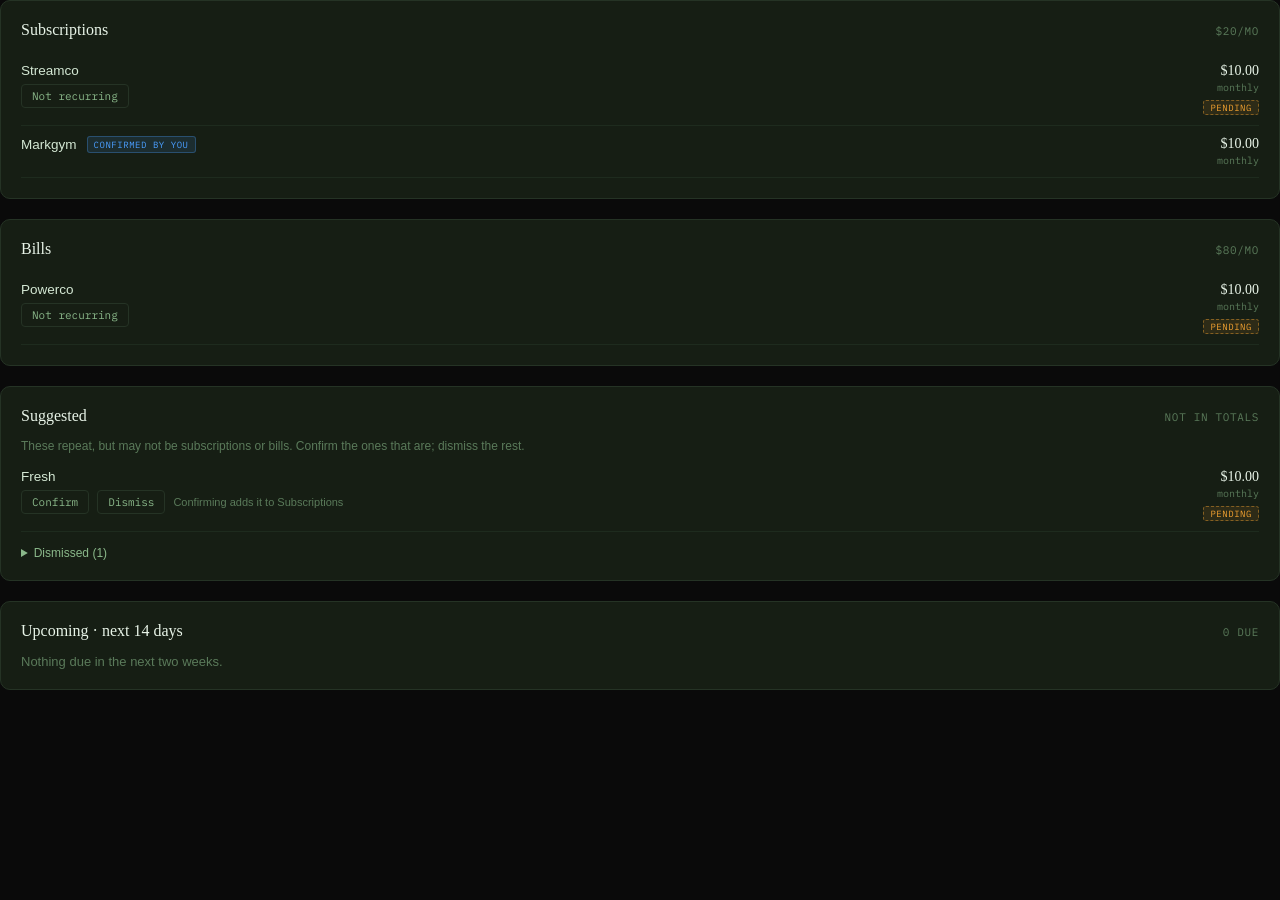
Test: SubscriptionTracker › with nothing posted yet, it sends the newest charge and shows the server's pending message
Click the button "Confirm".
click(55, 502)  # box [21,490,89,514]
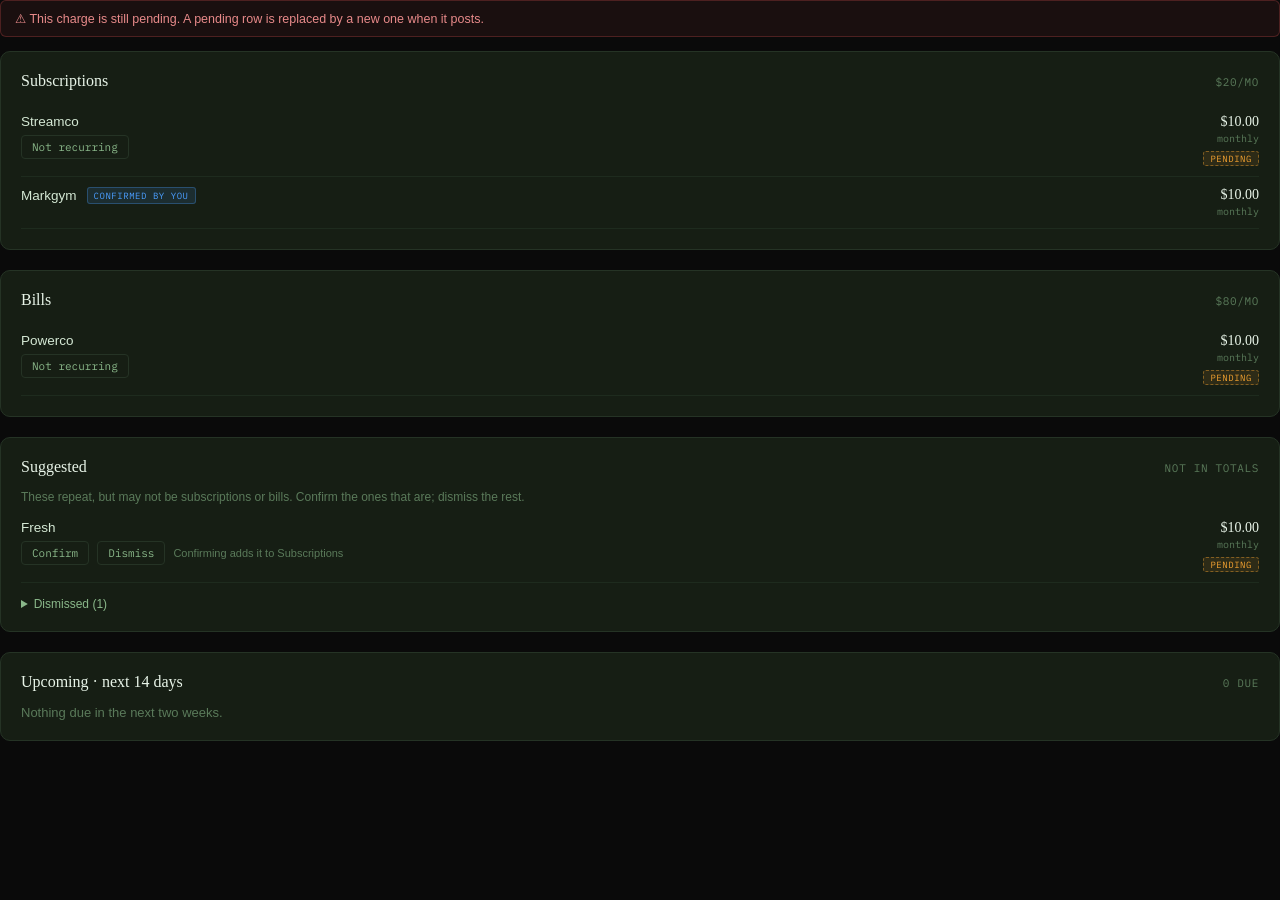
Expected: the message shows "still pending", [30,12,484,26]
